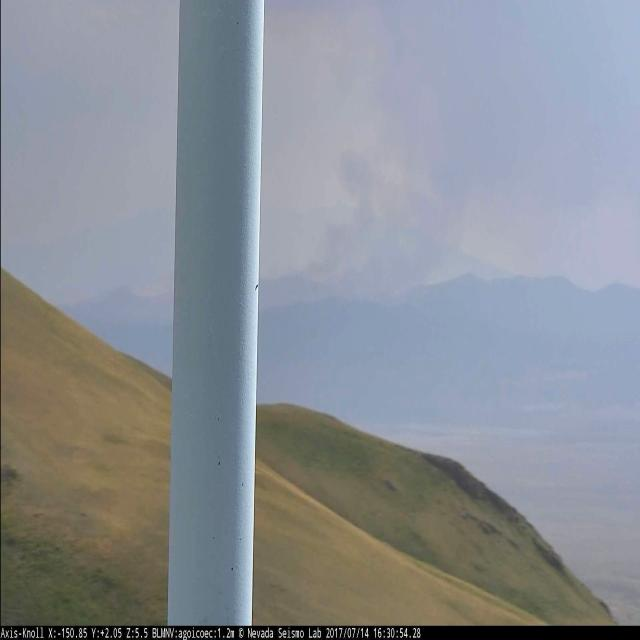smoke: (312, 0, 523, 302)
